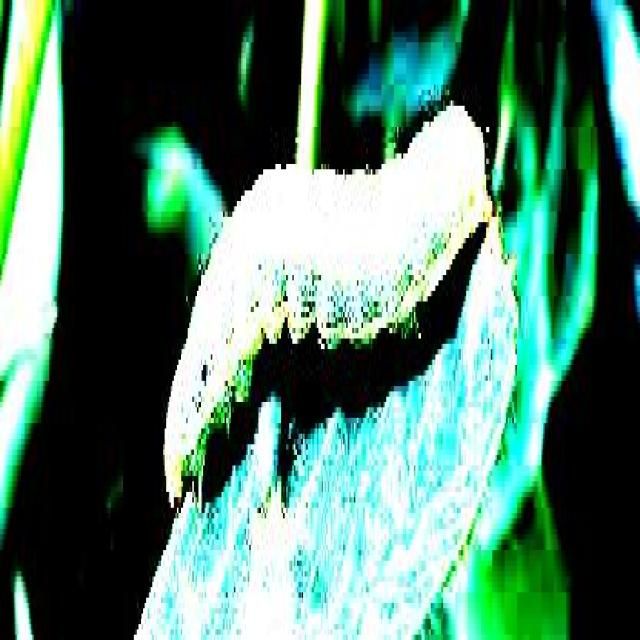Armyworm: (159, 75, 507, 570)
